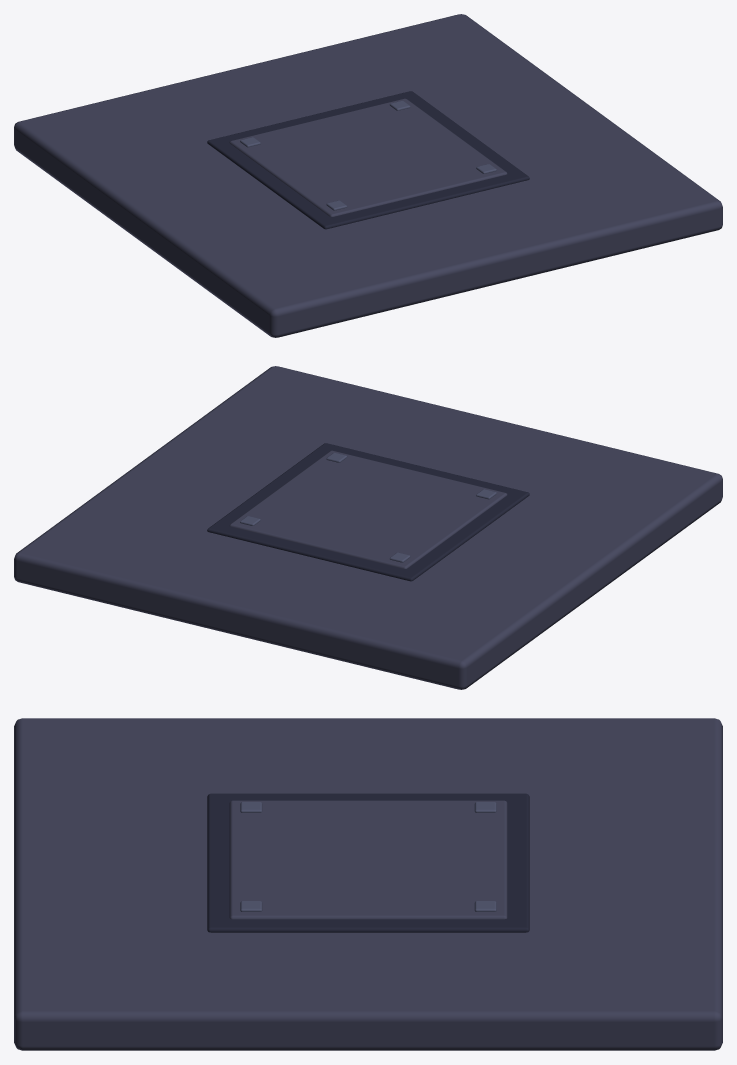
Rendered from floor.access.glb.
The picture shows the model from 3 angles, top to bottom: view 1: azimuth 30°, elevation 25°; view 2: azimuth 150°, elevation 25°; view 3: azimuth 270°, elevation 25°; orthographic projection. The views are drawn at different scales.
Parts seen in each view (by area): view 1: floor.access; view 2: floor.access; view 3: floor.access.
Boxes of the visible parts, bbox=[...] form: floor.access: bbox=[14, 14, 722, 337]; floor.access: bbox=[14, 366, 722, 689]; floor.access: bbox=[14, 718, 722, 1050].
Size of the model in its own units: 0.968 by 0.074 by 0.968.
